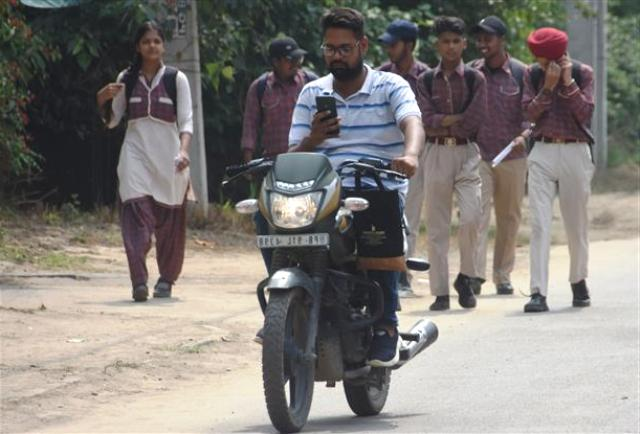licensePlate: (254, 233, 332, 254)
motorcycle: (232, 2, 426, 434)
withoutHelmet: (311, 4, 374, 86)
